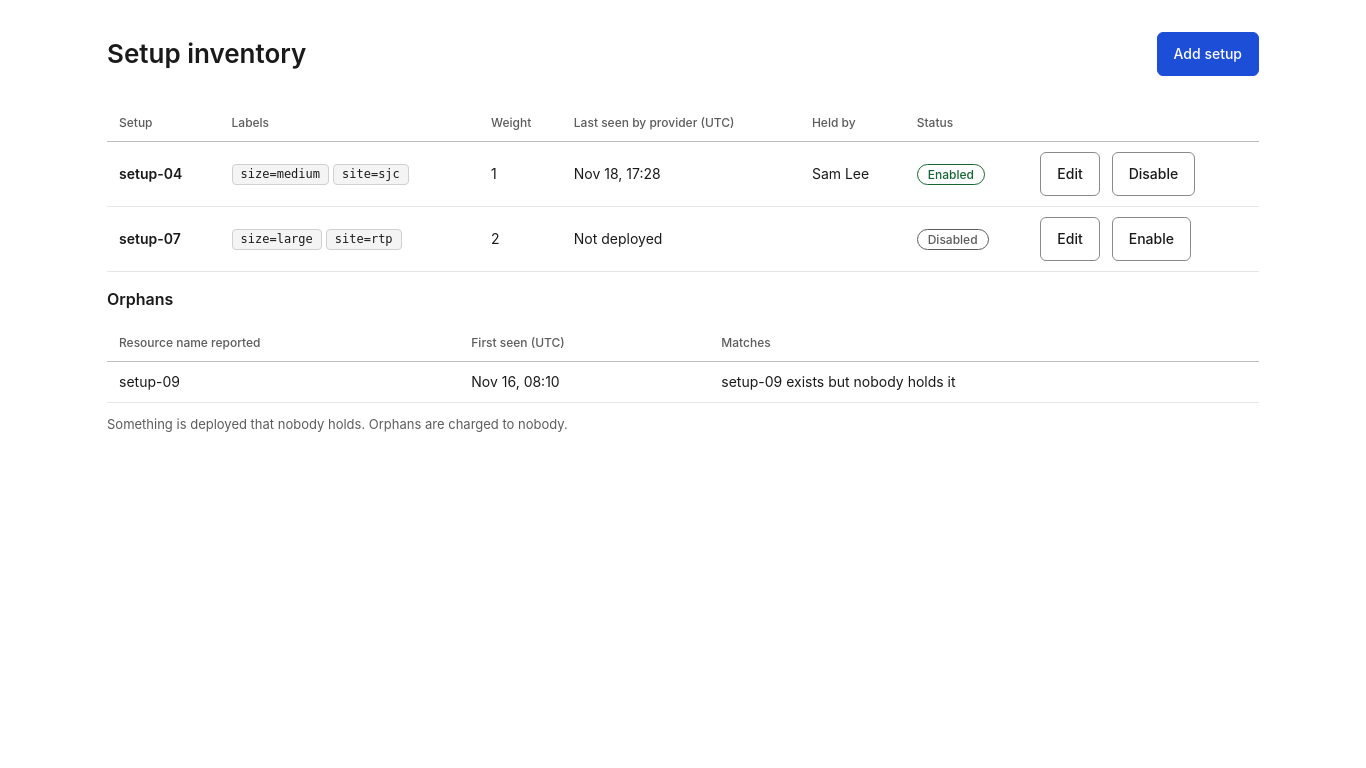
it: SET-2, SET-3 add and edit › surfaces the SET-3 label limit error from the API
Click the button with aria-label "Edit setup-04" at coordinates (1070, 174), box [1040,152,1100,196]
(page scrolled)
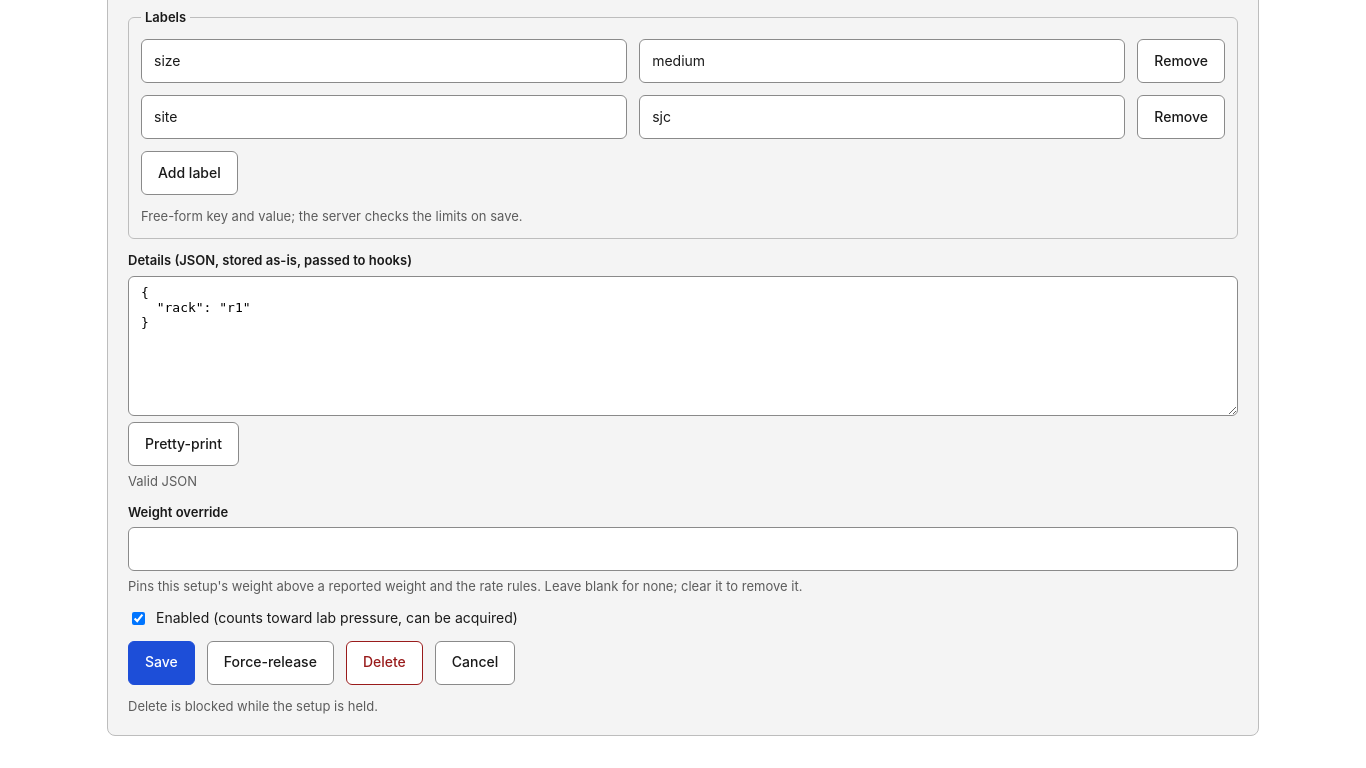
Click the button "Save" at coordinates (161, 662), box [128,640,195,684]
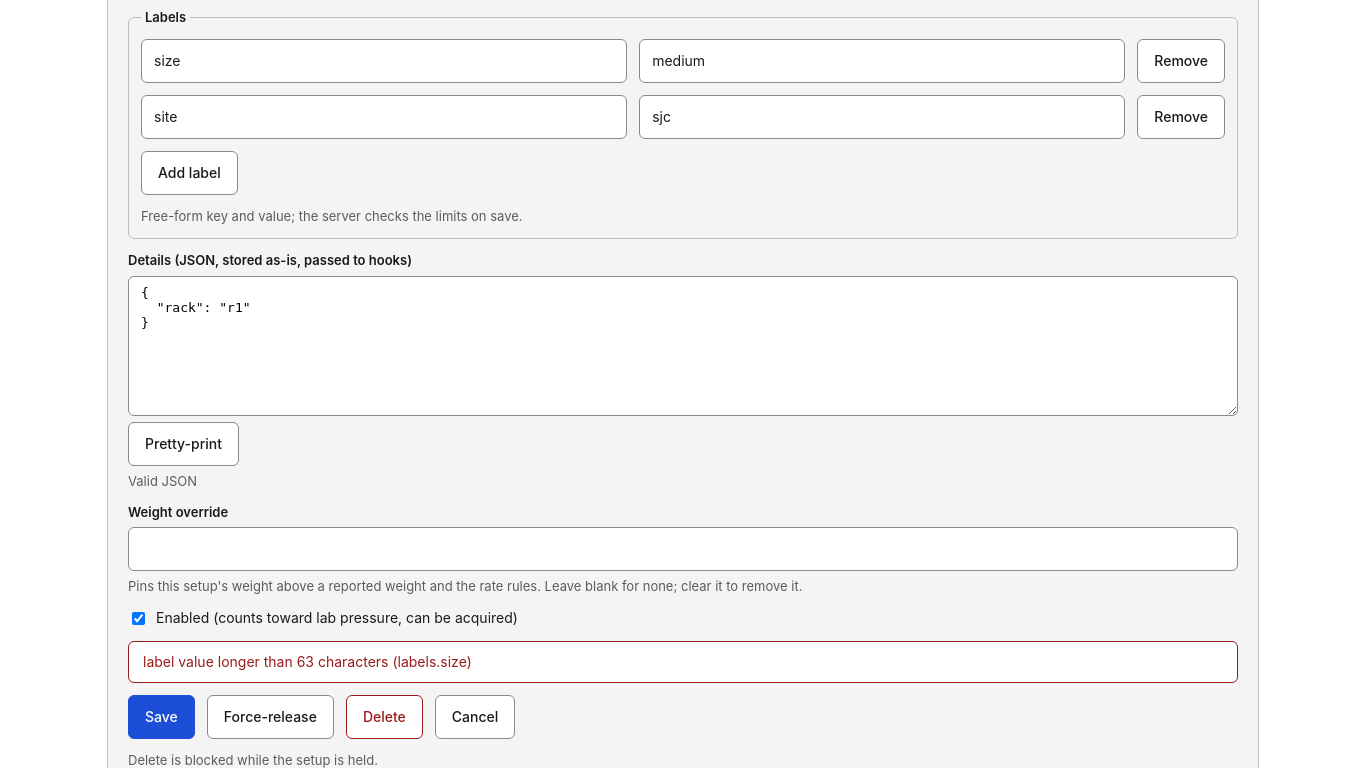
Now the text "label value longer than 63 characters (labels.size)" is shown, box [128,640,1238,683]
